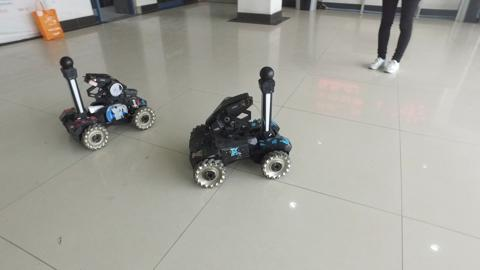chariot: (183, 65, 296, 192), (53, 55, 159, 156)
